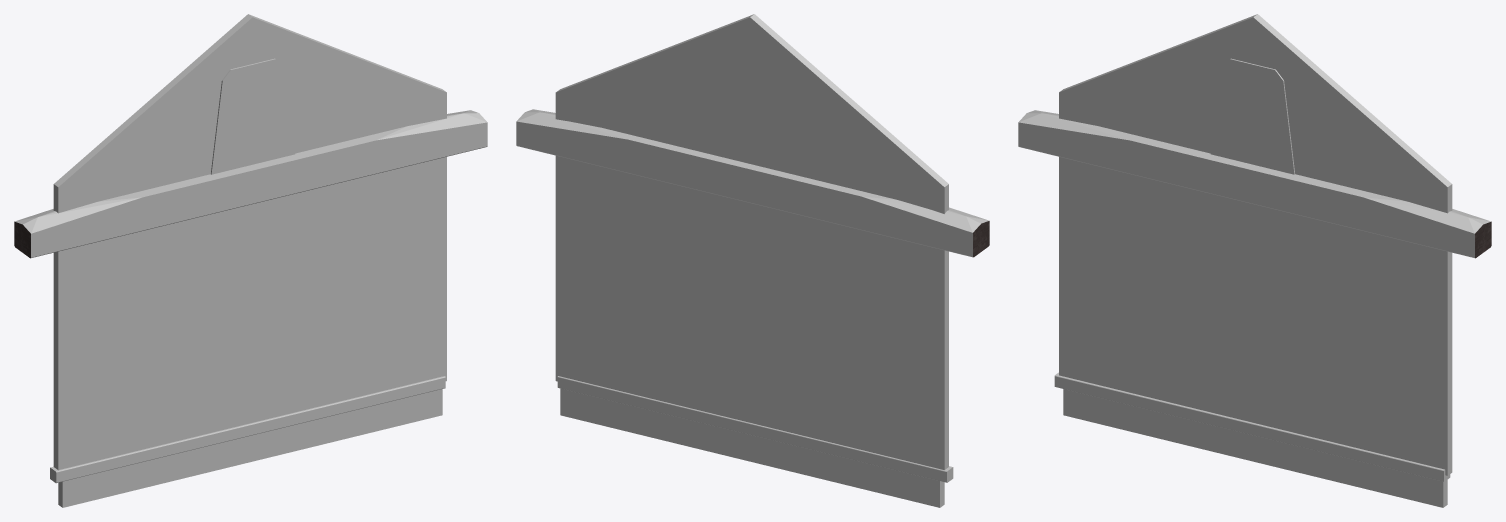
Rendered from SM_Building_Wall_20.FBX.
The picture shows the model from 3 angles, left to right: view 1: azimuth 30°, elevation 25°; view 2: azimuth 150°, elevation 25°; view 3: azimuth 330°, elevation 25°; orthographic projection.
Parts seen in each view (by area): view 1: SM_Building_Wall_20; view 2: SM_Building_Wall_20; view 3: SM_Building_Wall_20.
Part boxes in pixels (x1,y1,x2,y2): SM_Building_Wall_20: [14, 14, 487, 507]; SM_Building_Wall_20: [516, 14, 989, 507]; SM_Building_Wall_20: [1018, 14, 1491, 507].
Bounding box in the file's own units: 942 × 876 × 59.86.
